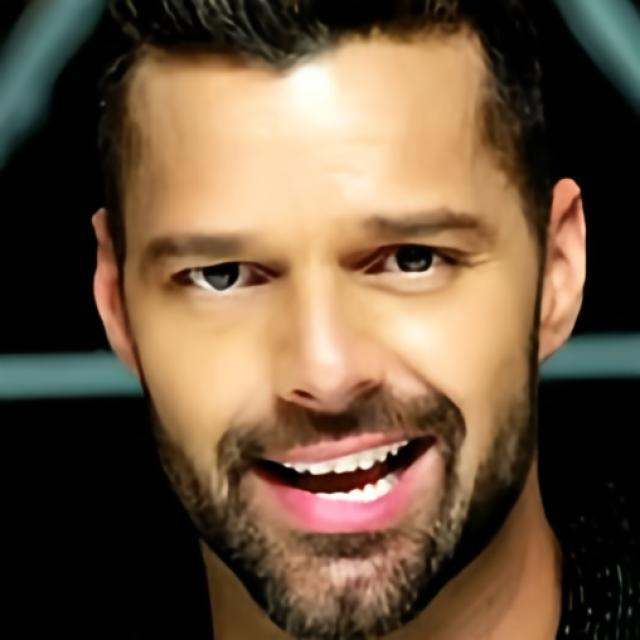happy: (123, 51, 546, 640)
